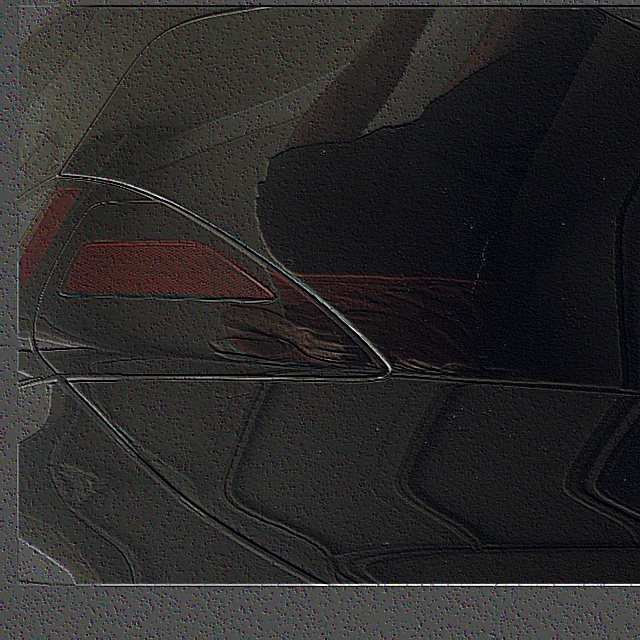reflector: (57, 241, 274, 301)
